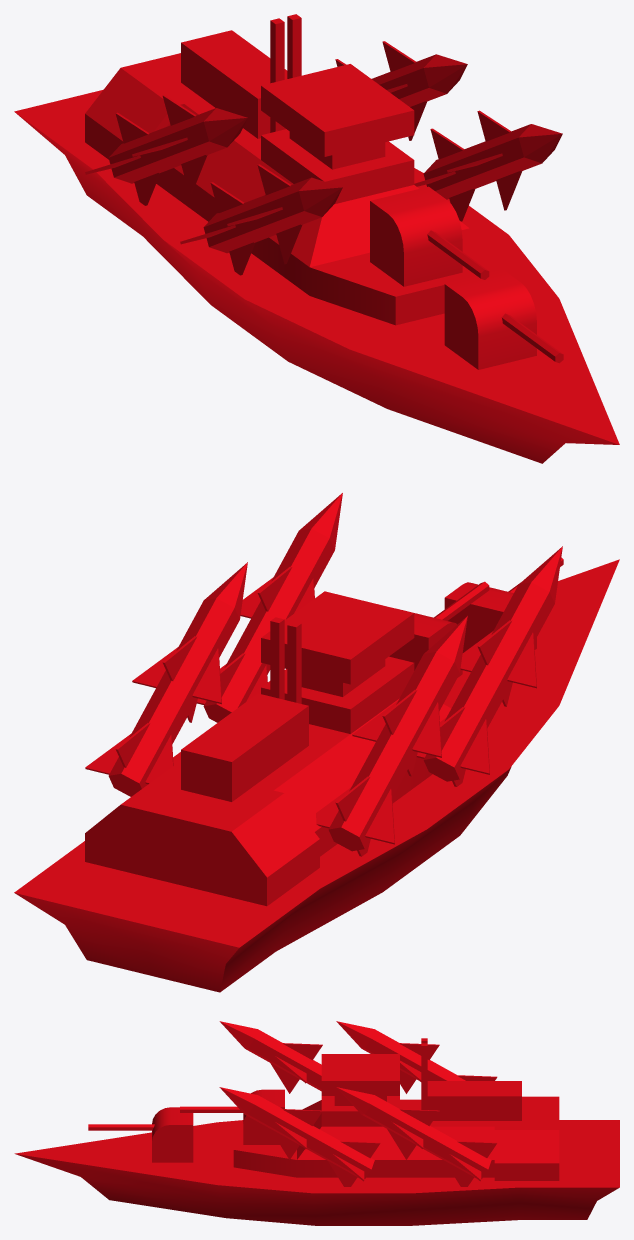
Rendered from naval_link.fbx.
3 renders of one model, top to bottom at view 1: azimuth 30°, elevation 25°; view 2: azimuth 150°, elevation 25°; view 3: azimuth 270°, elevation 25°, orthographic. The views are drawn at different scales.
Visible parts, largest first — view 1: Плоскость; view 2: Плоскость; view 3: Плоскость.
Part boxes in pixels (left/top/right/bottom): Плоскость: left=14, top=14, right=619, bottom=463; Плоскость: left=14, top=493, right=619, bottom=992; Плоскость: left=14, top=1021, right=619, bottom=1225.
Bounding box in the file's own units: 71.87 × 57.05 × 198.
